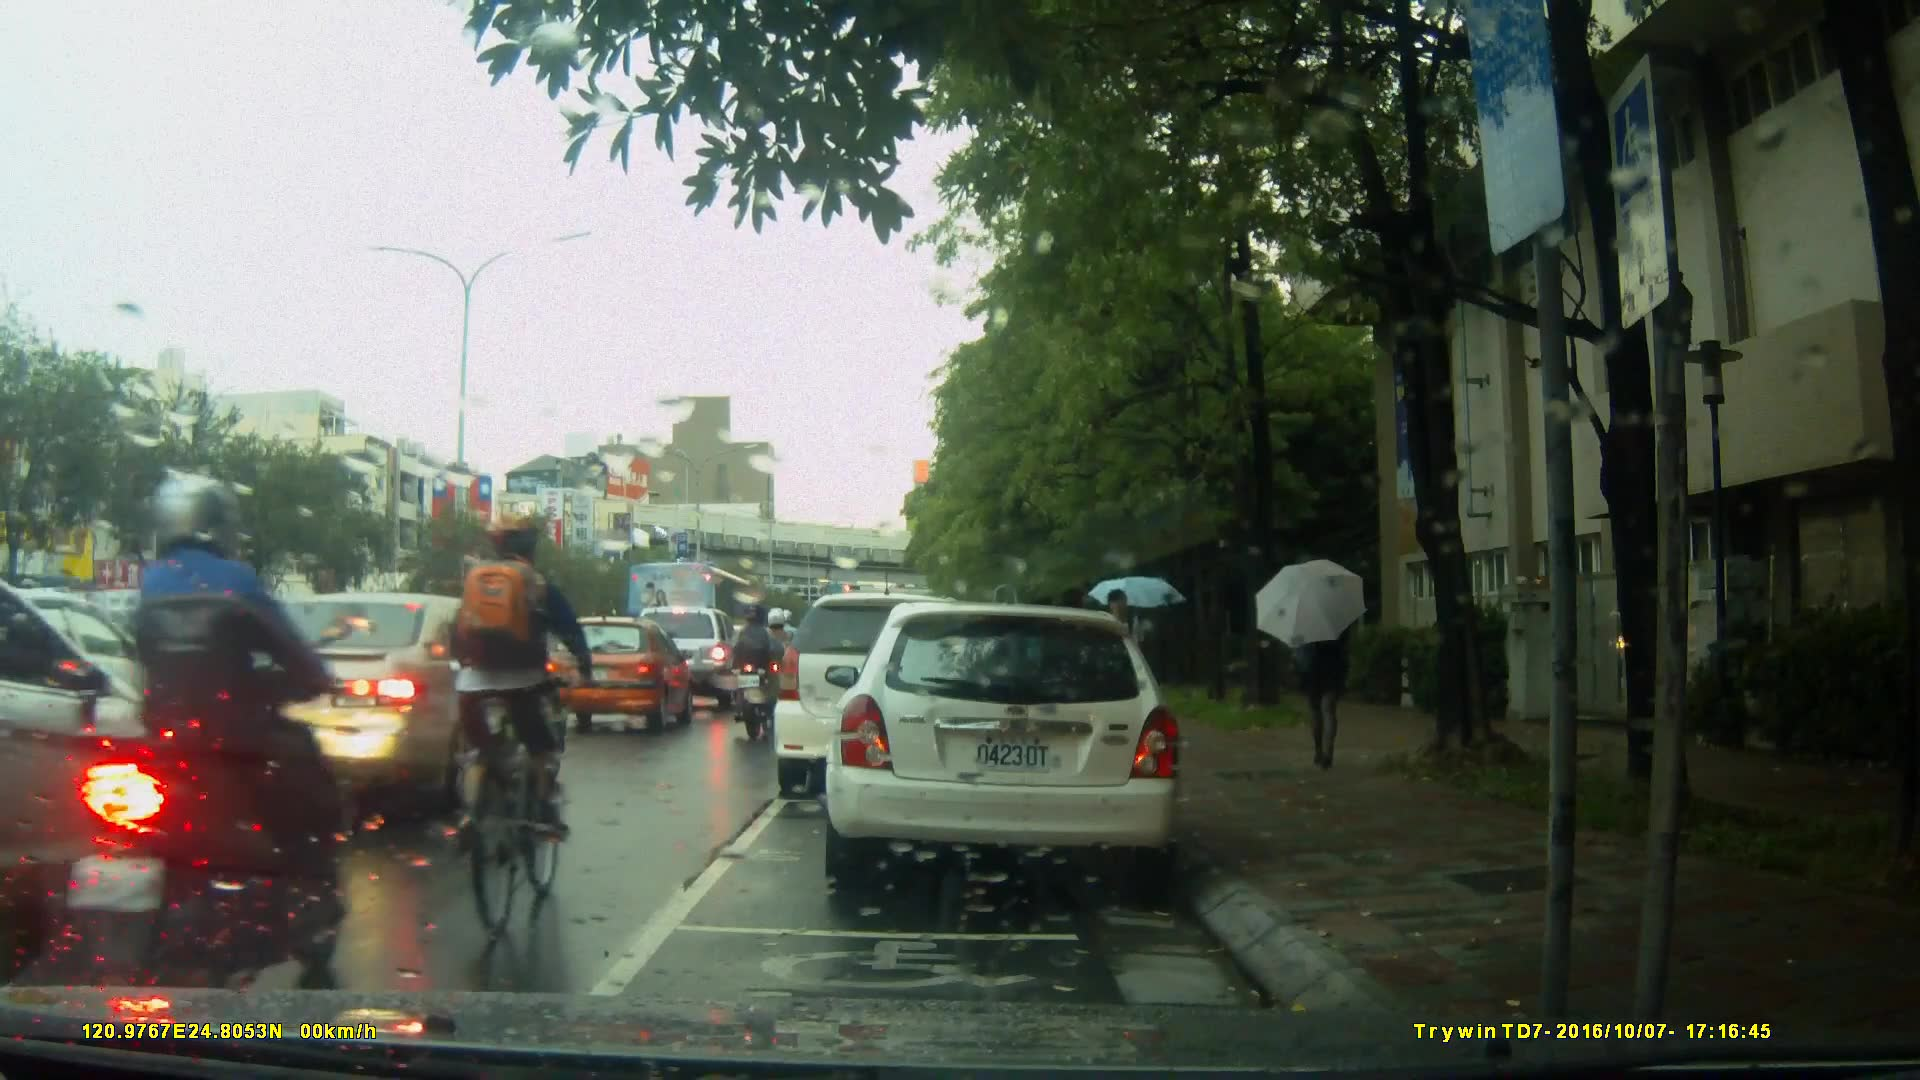pedestrian: (1283, 572, 1362, 769), (1109, 574, 1156, 772)
rider: (46, 474, 340, 1023), (429, 510, 594, 936), (726, 609, 777, 737), (755, 605, 800, 710)
vehicle: (835, 594, 1194, 898), (181, 589, 572, 820), (776, 590, 1026, 784), (538, 617, 701, 730), (626, 559, 761, 673)
